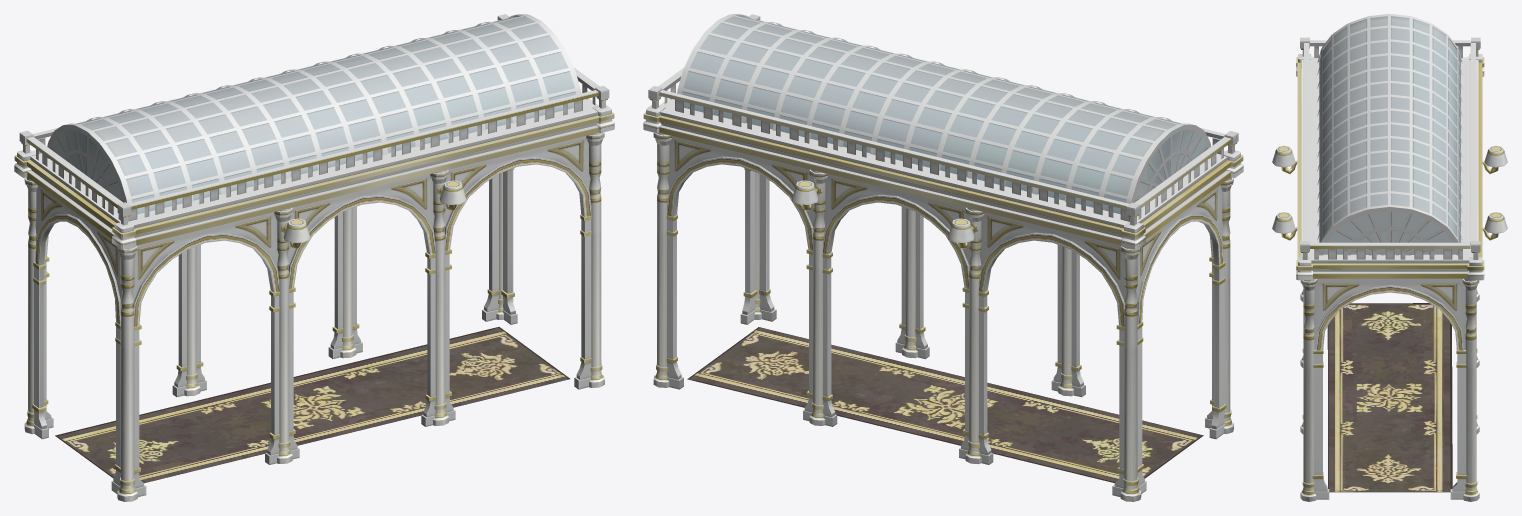
Rendered from my_teaparty_01_pillar_02.glb.
The picture shows the model from 3 angles, left to right: view 1: azimuth 30°, elevation 25°; view 2: azimuth 150°, elevation 25°; view 3: azimuth 270°, elevation 25°; orthographic projection. The views are drawn at different scales.
Parts seen in each view (by area): view 1: my_teaparty_01_pillar_02; view 2: my_teaparty_01_pillar_02; view 3: my_teaparty_01_pillar_02.
Boxes of the visible parts, bbox=[...] form: my_teaparty_01_pillar_02: bbox=[14, 14, 614, 501]; my_teaparty_01_pillar_02: bbox=[643, 14, 1243, 501]; my_teaparty_01_pillar_02: bbox=[1272, 14, 1507, 501].
Bounding box in the file's own units: 0.0475 × 0.0304 × 0.0225.
Materials: 2 (2 with a texture image).
